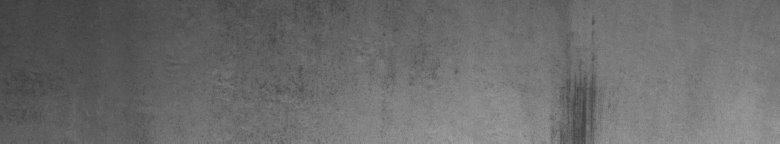ka: (544, 19, 604, 136)
